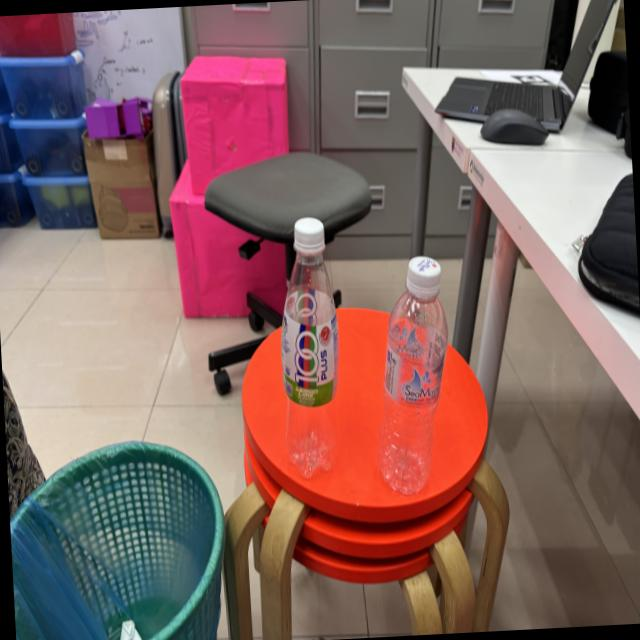dustbin: (5, 424, 231, 640)
plastic_bottle: (260, 197, 358, 481), (363, 250, 461, 504)
